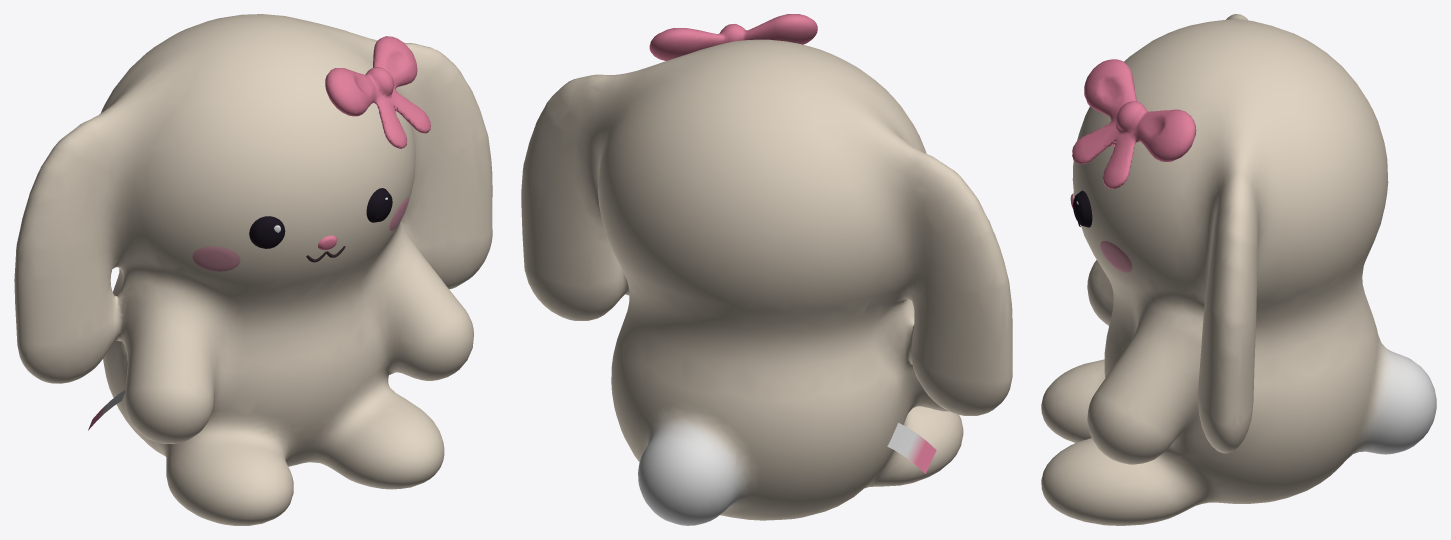
Rendered from bunny.glb.
3 renders of one model, left to right at view 1: azimuth 30°, elevation 25°; view 2: azimuth 150°, elevation 25°; view 3: azimuth 270°, elevation 25°, orthographic. The views are drawn at different scales.
Parts seen in each view (by area): view 1: LOD0; view 2: LOD0; view 3: LOD0.
Part boxes in pixels (x1,y1,x2,y2): LOD0: (14, 14, 492, 525); LOD0: (521, 14, 1012, 525); LOD0: (1041, 14, 1436, 525).
Size of what is drawn, in the model's own units: 0.2365 by 0.2034 by 0.1653.
